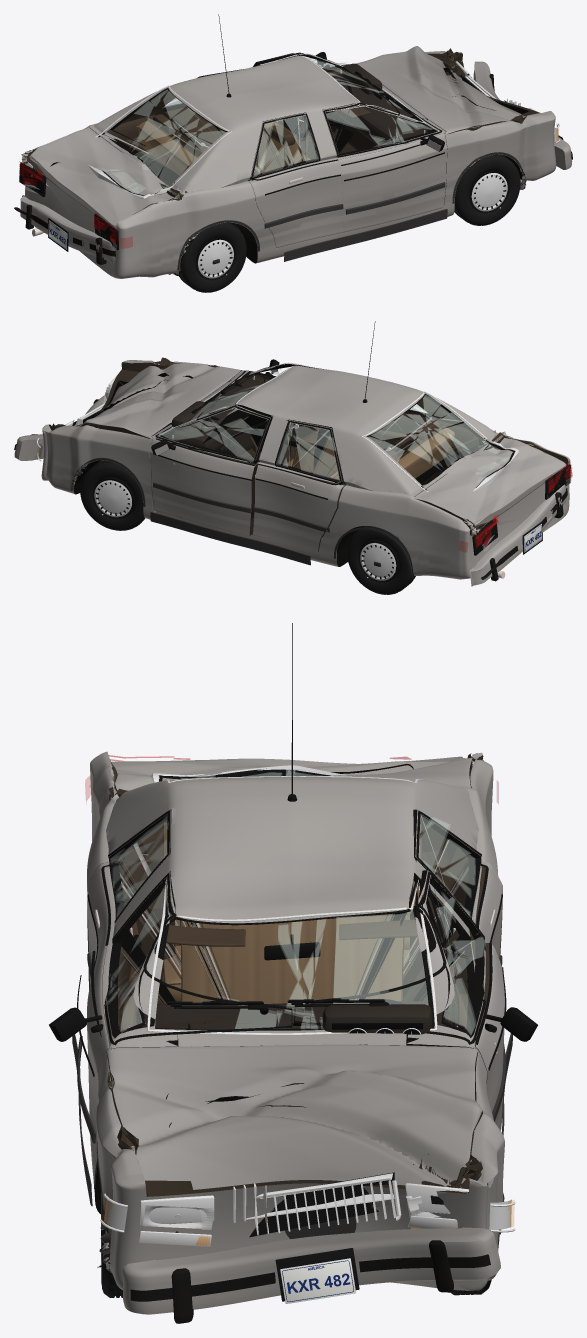
File: sedan87_front_d1.glb
The picture shows the model from 3 angles, top to bottom: view 1: azimuth 30°, elevation 25°; view 2: azimuth 150°, elevation 25°; view 3: azimuth 270°, elevation 25°; orthographic projection. The views are drawn at different scales.
Parts seen in each view (by area): view 1: Body, Door_FR, Interior, Trunk, Hood, Glass, Door_RR, Wheel_FR_mesh, Wheel_RR_mesh, Trim, Bumper_R, Glass_RR (+7 smaller); view 2: Body, Door_FL, Trunk, Interior, Hood, Door_RL, Glass, Wheel_FL_mesh, Wheel_RL_mesh, Trim, Bumper_R, Glass_RL (+9 smaller); view 3: Body, Hood, Interior, Bumper_F, Ends, Glass, Door_FL, Door_FR, Trunk, Trim_FR, Door_RL, Trim_FL (+9 smaller).
Part boxes in pixels (bbox=[...]): Body: bbox=[21, 48, 556, 278]; Door_FR: bbox=[322, 103, 447, 231]; Interior: bbox=[137, 63, 427, 175]; Trunk: bbox=[27, 127, 175, 228]; Hood: bbox=[355, 46, 524, 134]; Glass: bbox=[88, 53, 426, 198]; Door_RR: bbox=[248, 112, 343, 247]; Wheel_FR_mesh: bbox=[454, 154, 520, 225]; Wheel_RR_mesh: bbox=[178, 222, 246, 292]; Trim: bbox=[177, 14, 526, 270]; Bumper_R: bbox=[14, 195, 115, 264]; Glass_RR: bbox=[253, 115, 318, 176]; Body: bbox=[41, 357, 570, 579]; Door_FL: bbox=[150, 406, 272, 535]; Trunk: bbox=[414, 435, 566, 528]; Interior: bbox=[170, 378, 454, 479]; Hood: bbox=[78, 362, 243, 438]; Door_RL: bbox=[252, 420, 345, 551]; Glass: bbox=[171, 362, 518, 491]; Wheel_FL_mesh: bbox=[80, 460, 145, 530]; Wheel_RL_mesh: bbox=[347, 526, 415, 594]; Trim: bbox=[71, 321, 412, 577]; Bumper_R: bbox=[469, 484, 567, 586]; Glass_RL: bbox=[277, 423, 339, 480]; Body: bbox=[87, 751, 504, 1290]; Hood: bbox=[106, 1044, 482, 1189]; Interior: bbox=[136, 820, 448, 1046]; Bumper_F: bbox=[122, 1227, 500, 1323]; Ends: bbox=[100, 1172, 515, 1303]; Glass: bbox=[147, 765, 437, 1034]; Door_FL: bbox=[407, 870, 504, 1130]; Door_FR: bbox=[87, 871, 177, 1180]; Trunk: bbox=[111, 753, 472, 791]; Trim_FR: bbox=[49, 873, 292, 1143]; Door_RL: bbox=[413, 809, 502, 1028]; Trim_FL: bbox=[294, 871, 537, 1121].
Bounding box in the file's own units: 4.64 × 2.14 × 2.09.
Materials: 33 (5 with a texture image).
